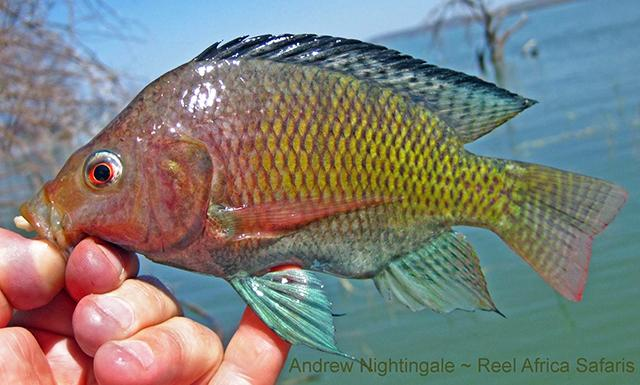Mulut: (13, 178, 82, 280)
Sirip Anal: (378, 224, 514, 332)
Sirip Dada: (210, 182, 406, 245)
Sirip Ekor: (491, 137, 629, 305)
Sirip Perut: (234, 266, 354, 362)
Sirip Punggung: (199, 8, 557, 146)
